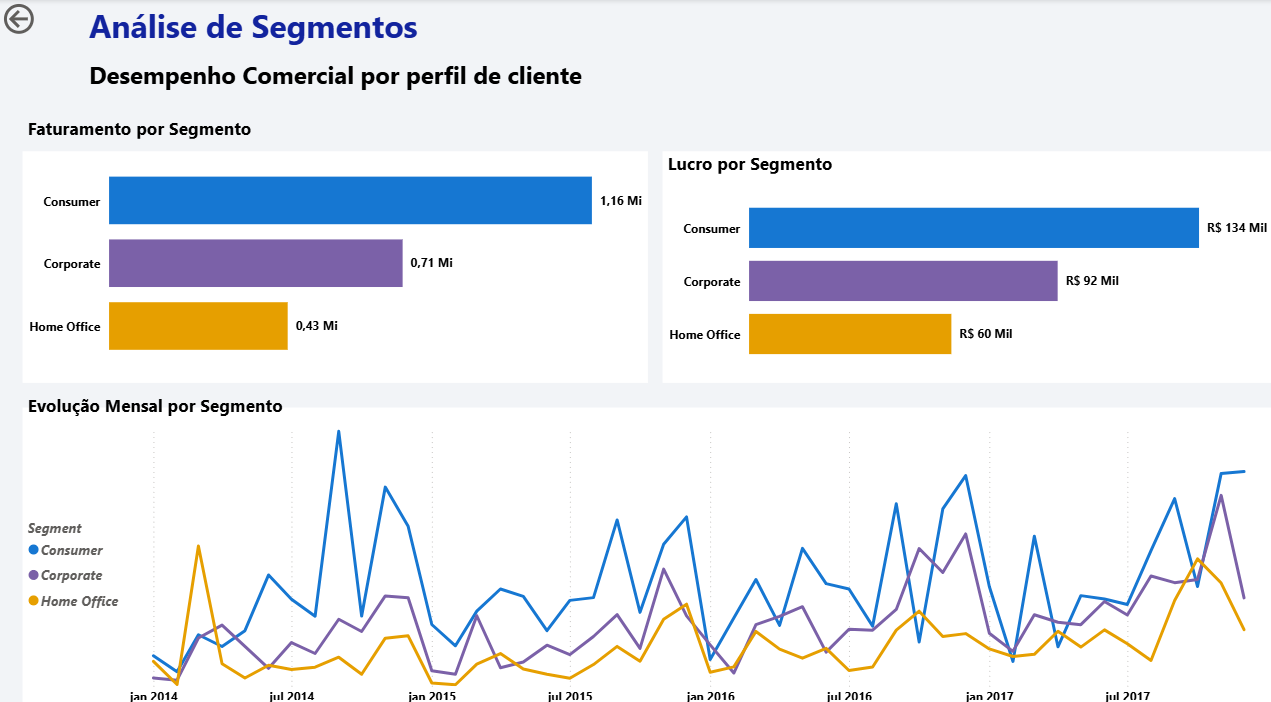

This screenshot's page, from the dashboard's own definition file:
{"tool":"powerbi","page":{"name":"Segmentos","canvas":[1280,720],"ordinal":3},"visuals":[{"type":"shape","box":[23.9,153.4,628.5,232.5],"z":0},{"type":"shape","box":[667.5,153.4,612.2,232.5],"z":1000},{"type":"shape","box":[24.2,410.5,1255.7,308.5],"z":2000},{"type":"actionButton","box":[0,0,100,40],"z":3000},{"type":"textbox","box":[85.9,0,359.2,76.1],"z":4000},{"type":"textbox","box":[85.9,54.9,523.9,42.3],"z":5000},{"type":"clusteredBarChart","title":"Faturamento por Segmento","fields":{"Category":["Superstore.Segment"],"Y":["Superstore.Faturamento"]},"box":[23.9,118.2,628.5,267.7],"z":6000},{"type":"clusteredBarChart","title":"Lucro por Segmento","fields":{"Category":["Superstore.Segment"],"Y":["Superstore.Lucro"]},"box":[667.5,153.4,613.4,232.5],"z":7000},{"type":"lineChart","title":"Evolução Mensal por Segmento","fields":{"Category":["Calendario.Data Mês"],"Series":["Superstore.Segment"],"Y":["Superstore.Faturamento"]},"box":[23.9,397.2,1255.7,323],"z":8000}]}

Visuals, with their boxes in screenshot pixels (x1, y1, x2, y2), scaled from the page's 1280x720 canvas onto the 1271x702 screenshot:
shape: locate(24, 150, 648, 376)
shape: locate(663, 150, 1270, 376)
shape: locate(24, 400, 1270, 701)
actionButton: locate(0, 0, 99, 39)
textbox: locate(85, 0, 442, 74)
textbox: locate(85, 54, 606, 95)
"Faturamento por Segmento" clusteredBarChart: locate(24, 115, 648, 376)
"Lucro por Segmento" clusteredBarChart: locate(663, 150, 1270, 376)
"Evolução Mensal por Segmento" lineChart: locate(24, 387, 1270, 701)
